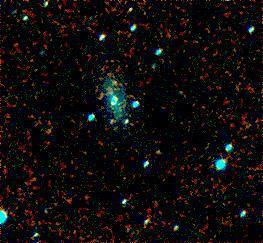star: (103, 65, 133, 95)
